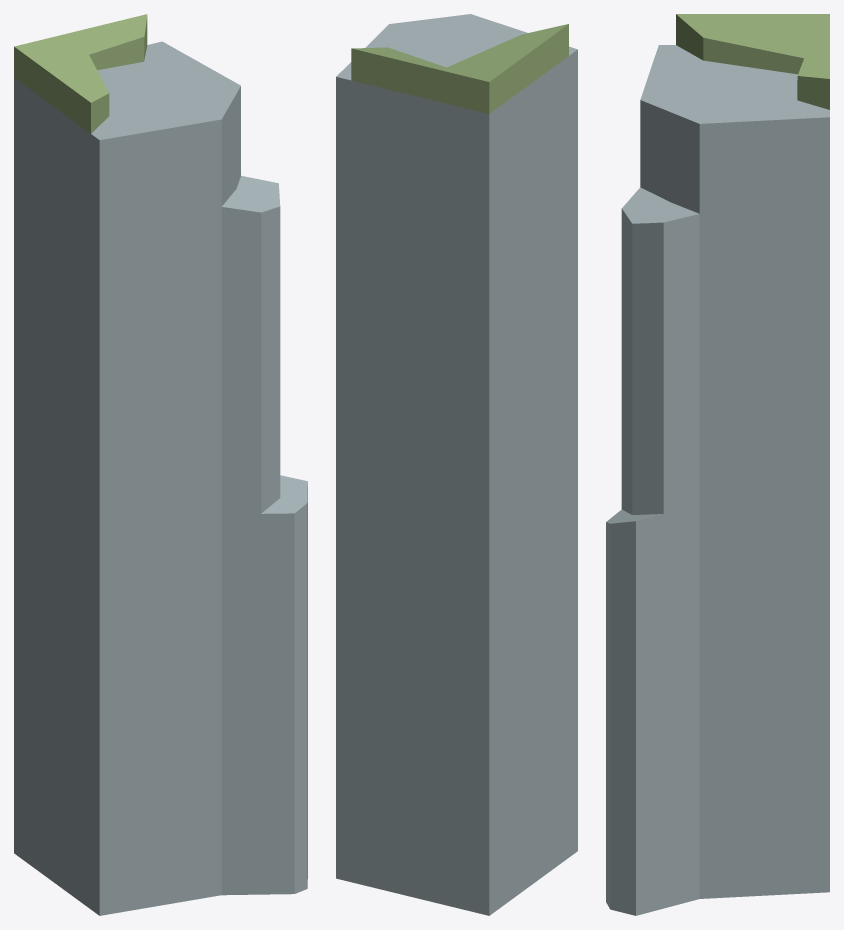
File: Dual_Grid_L_W_W_W_04.fbx
3 views of the same model, side by side, from view 1: azimuth 30°, elevation 25°; view 2: azimuth 150°, elevation 25°; view 3: azimuth 270°, elevation 25° (orthographic). The views are drawn at different scales.
Visible parts, largest first — view 1: Tile_L_W_W_W_04; view 2: Tile_L_W_W_W_04; view 3: Tile_L_W_W_W_04.
Part boxes in pixels (<box>): Tile_L_W_W_W_04: <box>14,14,307,915</box>; Tile_L_W_W_W_04: <box>336,14,577,915</box>; Tile_L_W_W_W_04: <box>606,14,829,915</box>.
Size of the model in its own units: 66.37 by 65.39 by 260.
